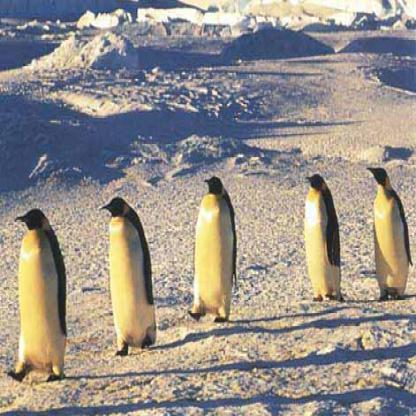Penguin: (11, 206, 77, 387), (93, 194, 166, 355), (184, 171, 247, 326), (292, 166, 351, 311), (361, 158, 415, 306)
